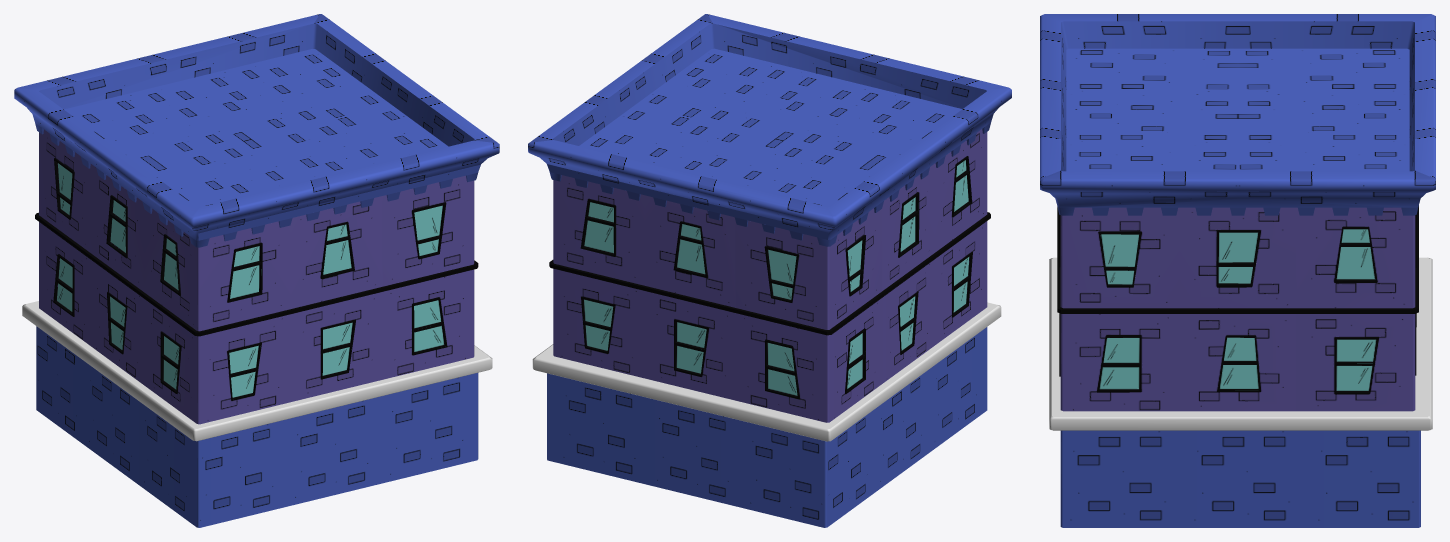
The model's file is 3x2x3w_Building.fbx.
3 views of the same model, side by side, from view 1: azimuth 30°, elevation 25°; view 2: azimuth 150°, elevation 25°; view 3: azimuth 270°, elevation 25° (orthographic). The views are drawn at different scales.
Parts seen in each view (by area): view 1: 2x004, roof004, ground floor002, bar002; view 2: 2x004, roof004, ground floor002, bar002; view 3: roof004, 2x004, ground floor002, bar002.
Part boxes in pixels (x1=…): 2x004: x1=35, y1=129, x2=478, y2=424; roof004: x1=14, y1=14, x2=499, y2=247; ground floor002: x1=36, y1=326, x2=478, y2=527; bar002: x1=22, y1=301, x2=492, y2=441; 2x004: x1=549, y1=129, x2=990, y2=422; roof004: x1=528, y1=14, x2=1011, y2=246; ground floor002: x1=547, y1=327, x2=987, y2=527; bar002: x1=532, y1=302, x2=1001, y2=441; roof004: x1=1040, y1=14, x2=1435, y2=215; 2x004: x1=1057, y1=205, x2=1418, y2=411; ground floor002: x1=1060, y1=430, x2=1420, y2=527; bar002: x1=1049, y1=257, x2=1432, y2=430.
Size of the model in its own units: 8.31 by 8.23 by 8.33.
